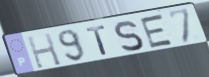7: (167, 6, 193, 45)
9: (57, 29, 87, 64)
E: (138, 12, 175, 50)
H: (25, 31, 63, 70)
S: (113, 19, 145, 54)
T: (84, 24, 110, 57)
